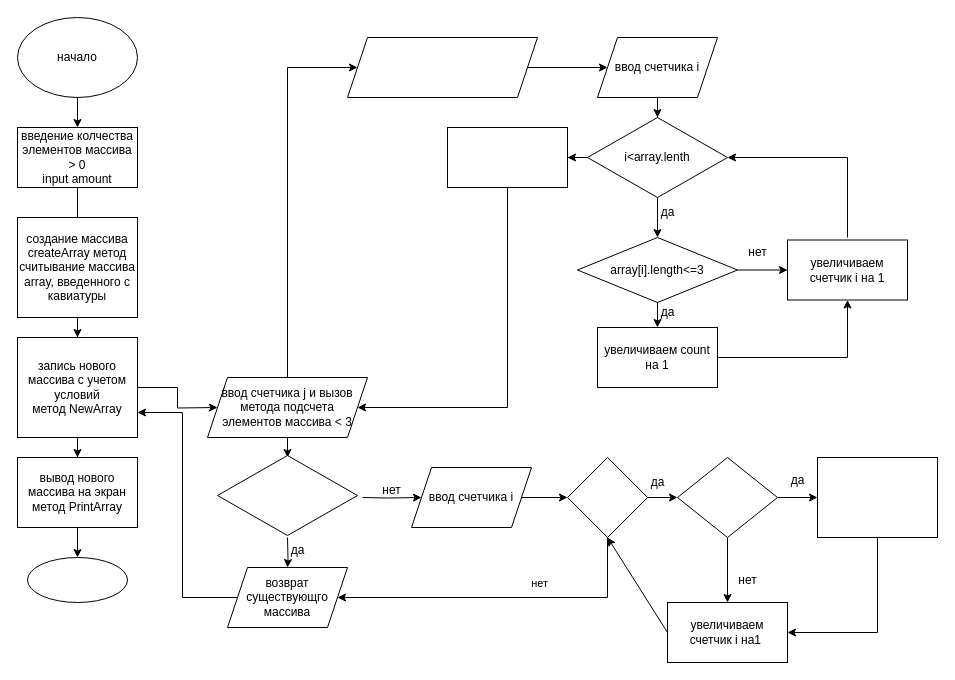
The diagram is 955 pixels wide and 680 high, and some of its shapes have lost their labels. Each missing label, with the centre of its shape:
arr.A.length == 0: (x=287, y=495)
arr[i].length <=3: (x=727, y=497)
i < arr.length: (x=607, y=497)
ввод переменной count - подсчет количества элементов <3: (x=442, y=67)
возврат значения переменной count: (x=507, y=157)
конец: (x=77, y=579)
перезаписываем массив новыми данными и увеличиваем счетчик j на 1: (x=877, y=497)
